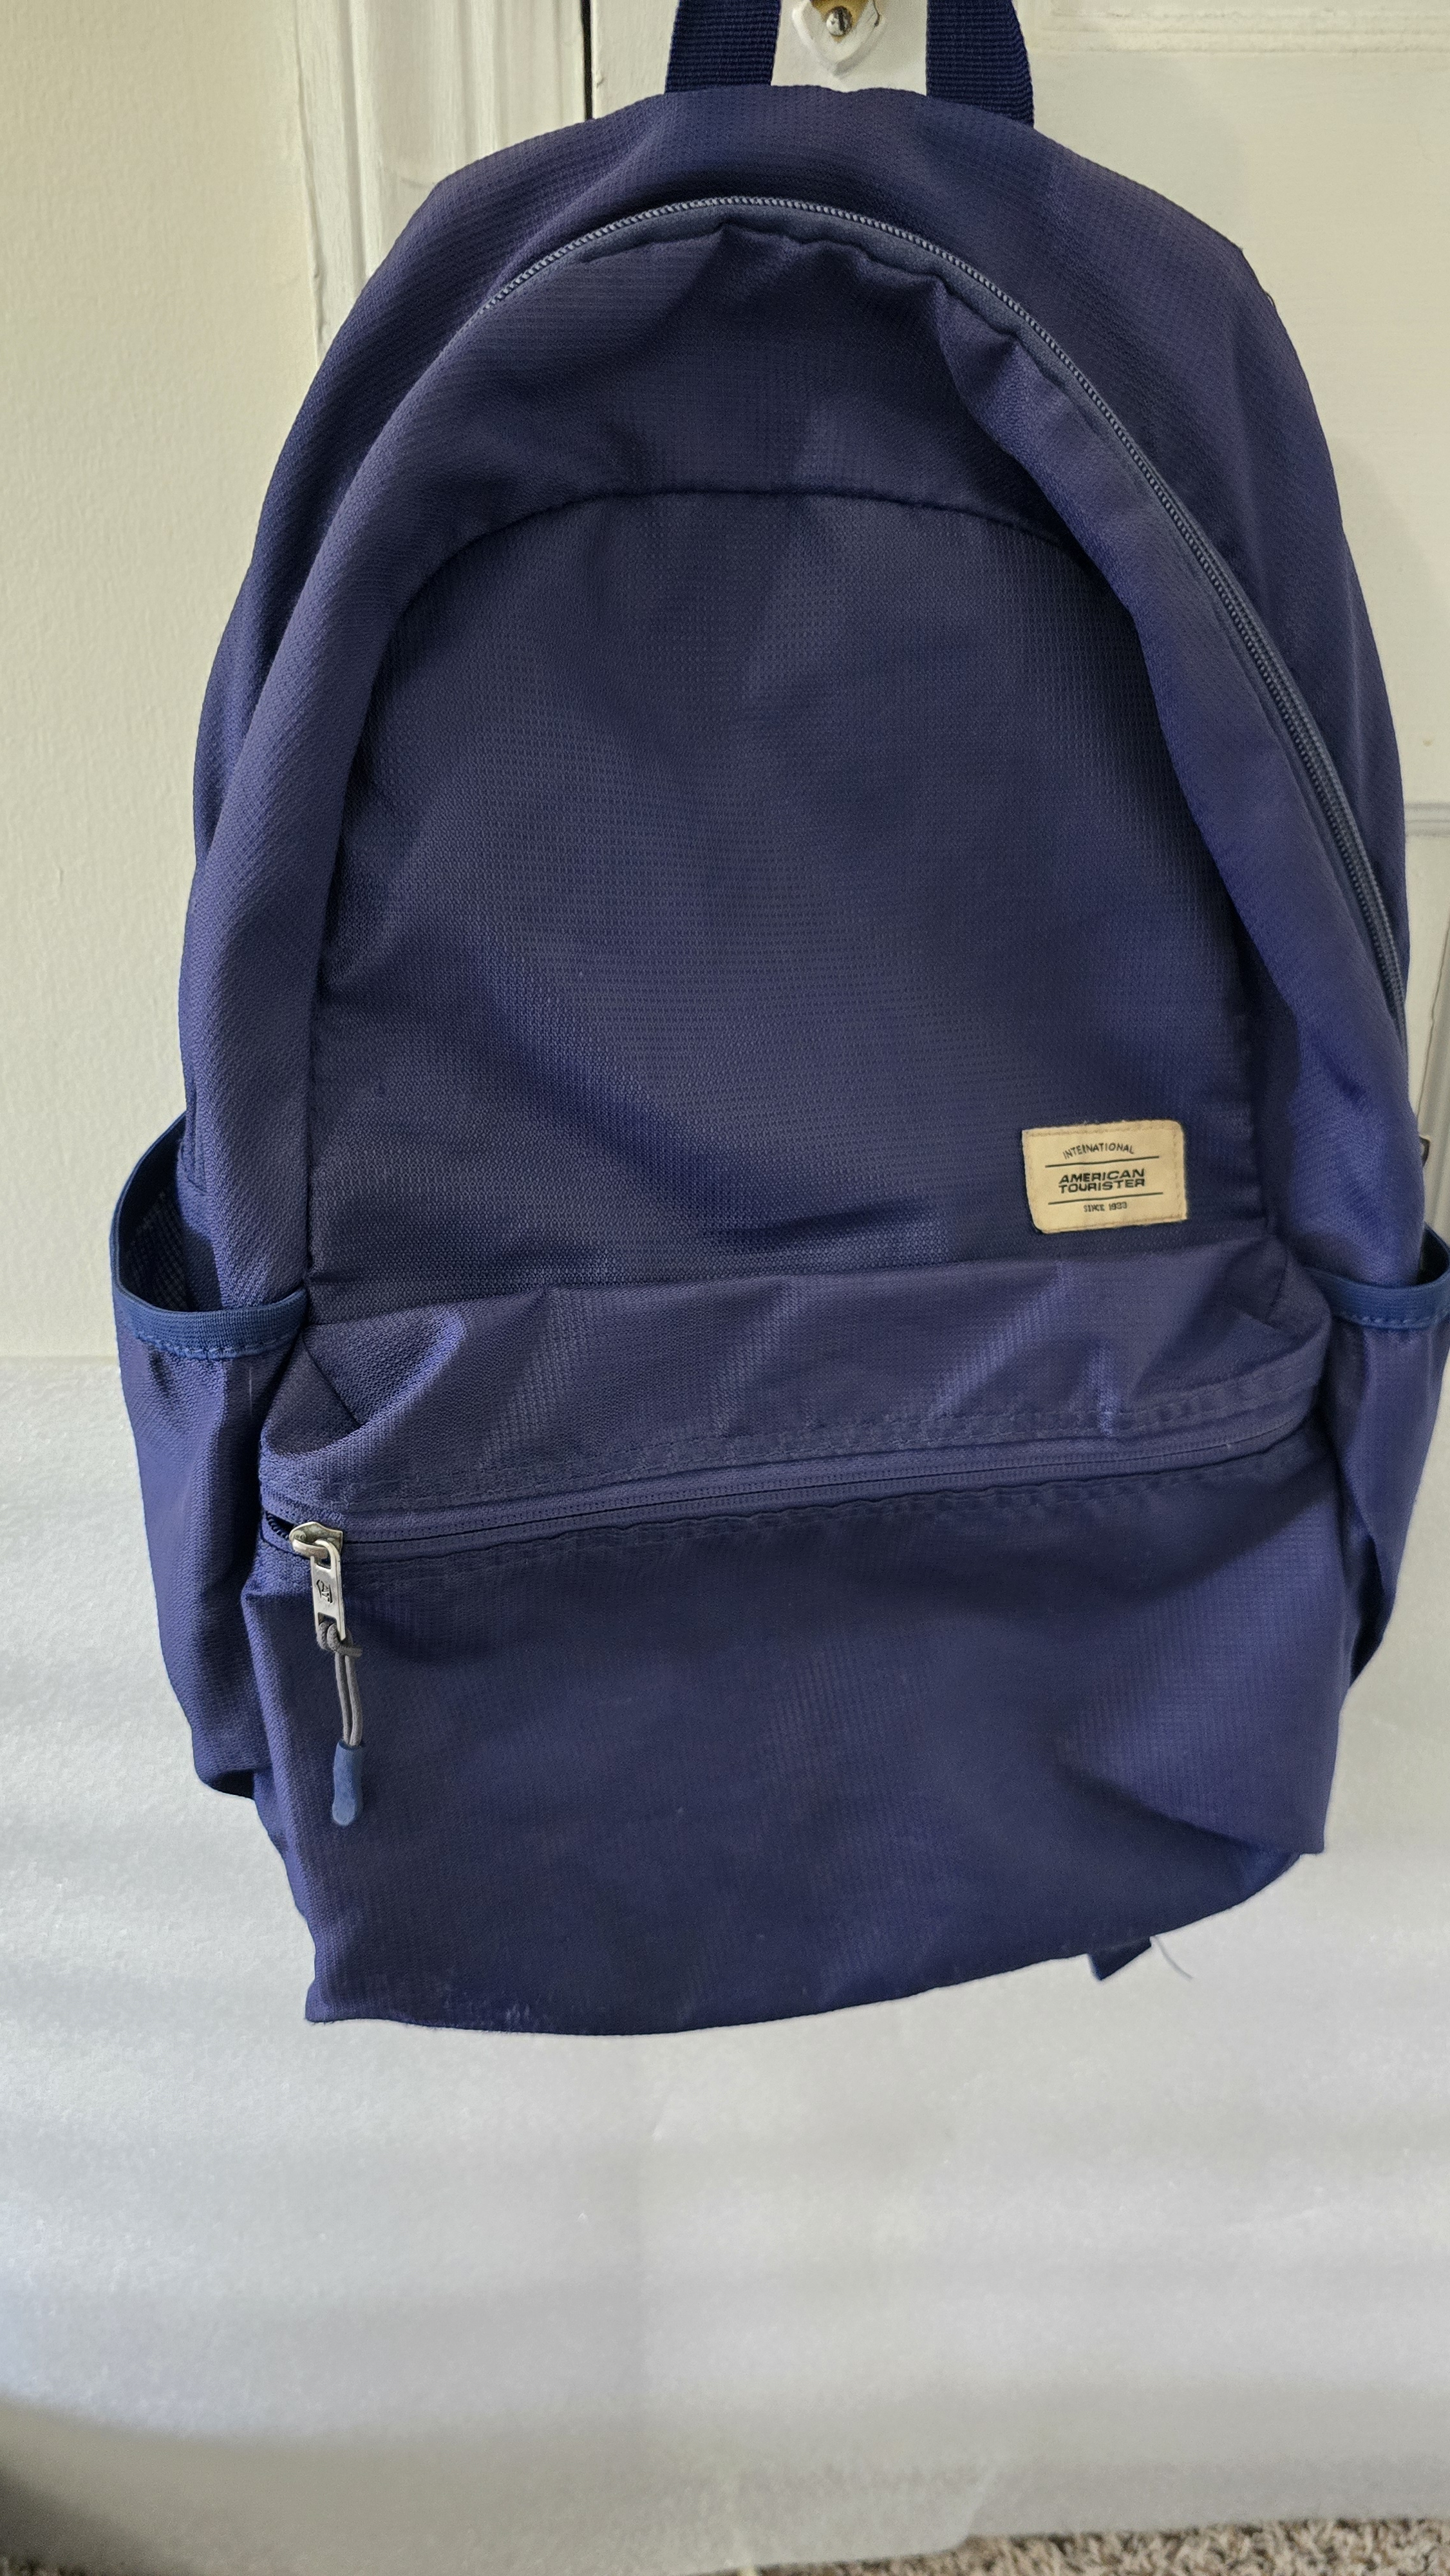bag: (187, 64, 1450, 2015)
